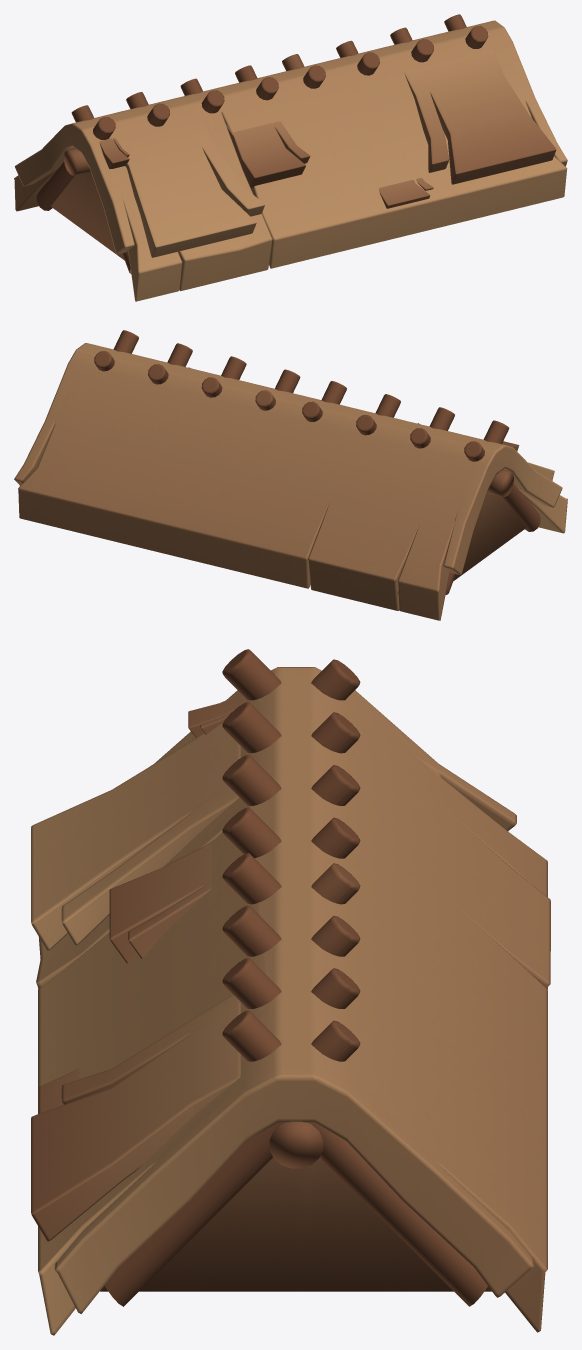
The model's file is SM_Clay_Roof_03.fbx.
The picture shows the model from 3 angles, top to bottom: view 1: azimuth 30°, elevation 25°; view 2: azimuth 150°, elevation 25°; view 3: azimuth 270°, elevation 25°; orthographic projection. The views are drawn at different scales.
Parts seen in each view (by area): view 1: SM_Clay_Roof_03; view 2: SM_Clay_Roof_03; view 3: SM_Clay_Roof_03.
Boxes of the visible parts, x1,y1,x2,y2 form: SM_Clay_Roof_03: (14,14,567,301); SM_Clay_Roof_03: (14,330,567,620); SM_Clay_Roof_03: (31,649,550,1335).
Size of the model in its own units: 2.02 by 0.644 by 1.05.
1 material, 1 textured.
